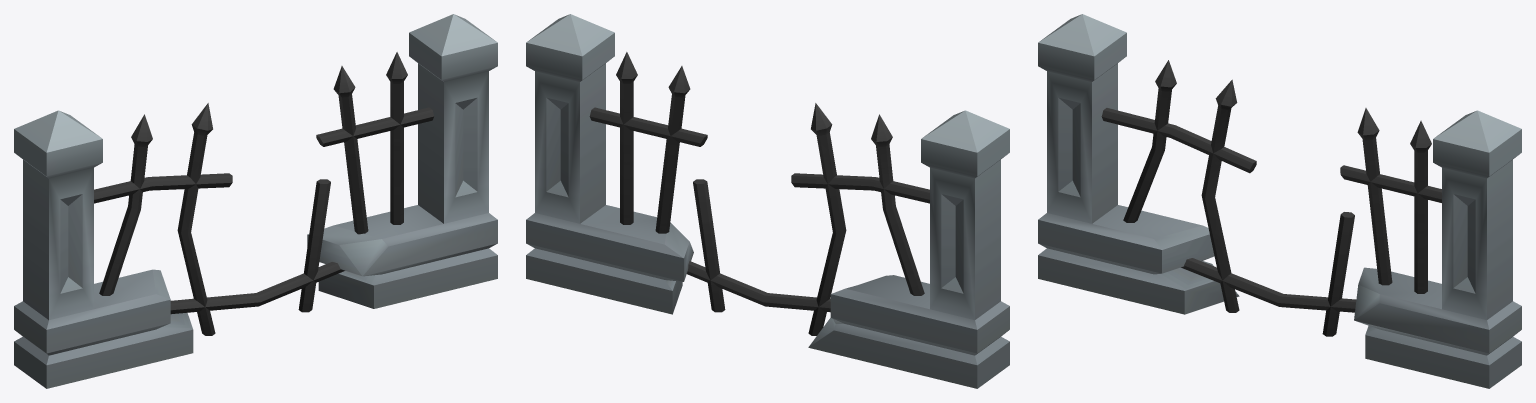
The model's file is fence_broken.glb.
3 renders of one model, left to right at view 1: azimuth 30°, elevation 25°; view 2: azimuth 150°, elevation 25°; view 3: azimuth 330°, elevation 25°, orthographic.
Visible parts, largest first — view 1: fence_broken; view 2: fence_broken; view 3: fence_broken.
Boxes of the visible parts, x1=… form: fence_broken: x1=14, y1=14, x2=497, y2=388; fence_broken: x1=526, y1=14, x2=1009, y2=388; fence_broken: x1=1038, y1=14, x2=1521, y2=388.
Bounding box in the file's own units: 4 × 2.2 × 0.5.
1 material, 1 textured.
